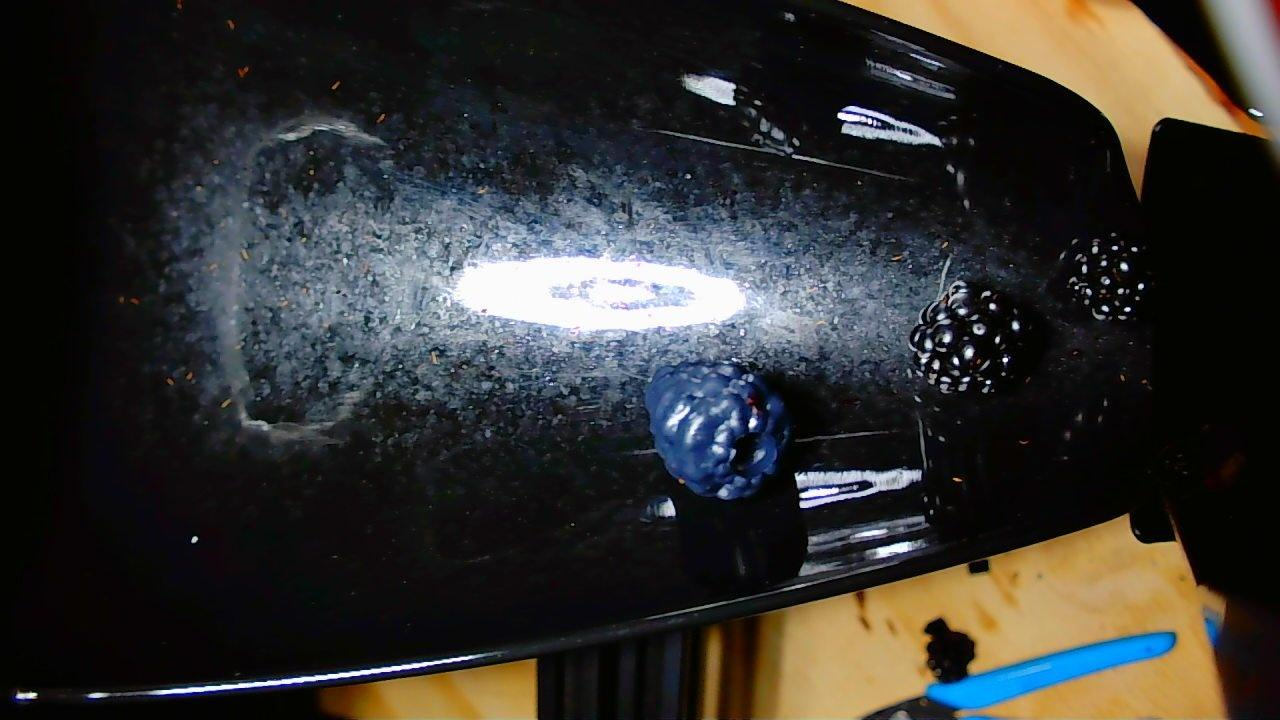berry: (644, 362, 790, 500), (909, 280, 1028, 393), (1064, 233, 1150, 318)
